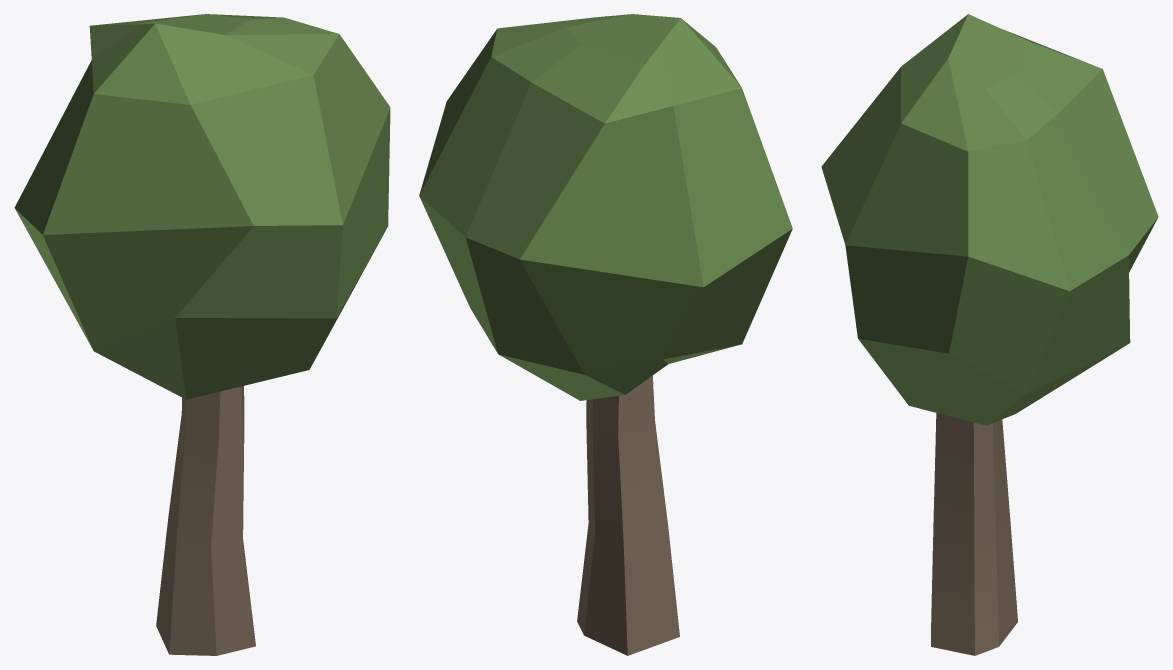
File: round_tree.fbx
3 views of the same model, side by side, from view 1: azimuth 30°, elevation 25°; view 2: azimuth 150°, elevation 25°; view 3: azimuth 270°, elevation 25° (orthographic). The views are drawn at different scales.
Parts seen in each view (by area): view 1: leaves, trunk; view 2: leaves, trunk; view 3: leaves, trunk.
Part boxes in pixels (bbox=[...]): leaves: bbox=[14, 14, 390, 399]; trunk: bbox=[156, 386, 255, 655]; leaves: bbox=[419, 14, 792, 400]; trunk: bbox=[577, 375, 679, 655]; leaves: bbox=[821, 14, 1158, 425]; trunk: bbox=[931, 413, 1017, 655].
Size of the model in its own units: 150 by 259 by 133.
